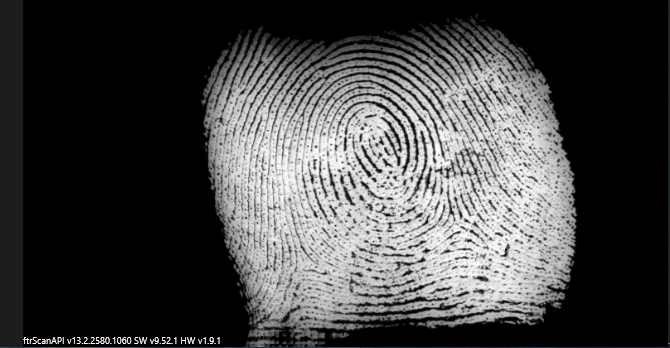nucelo: (360, 118, 397, 164)
verticilo: (288, 247, 322, 279), (444, 212, 466, 234)
